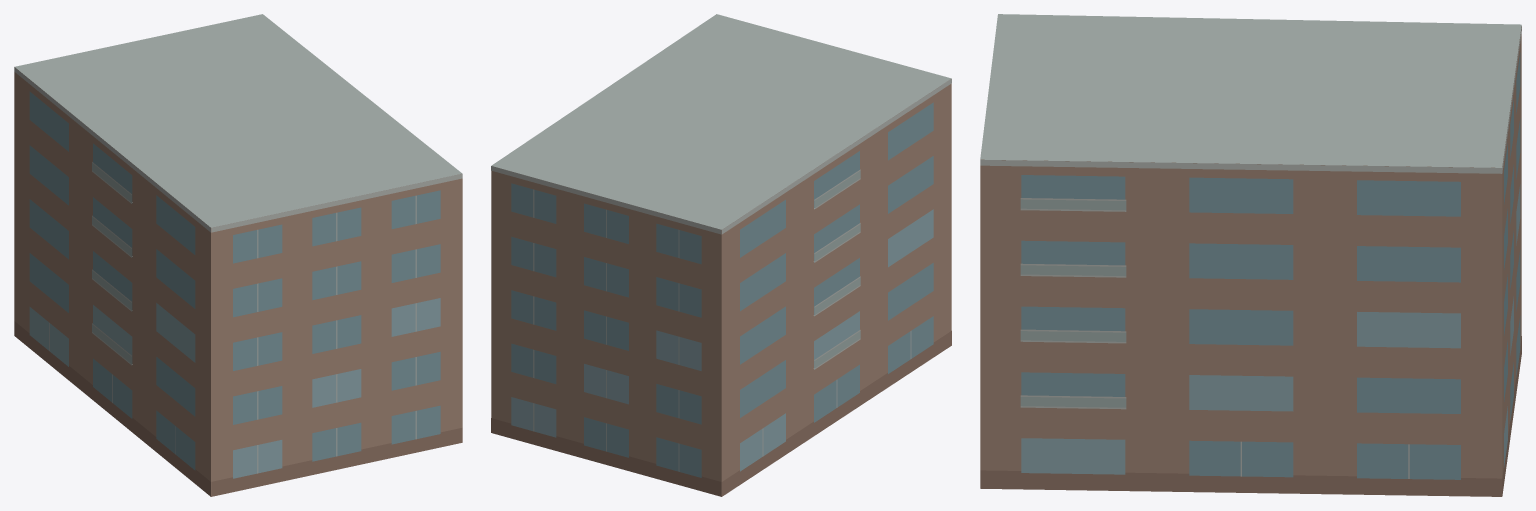
The model's file is survey-upis-32653981.glb.
The picture shows the model from 3 angles, left to right: view 1: azimuth 30°, elevation 25°; view 2: azimuth 150°, elevation 25°; view 3: azimuth 270°, elevation 25°; orthographic projection. The views are drawn at different scales.
Parts seen in each view (by area): view 1: survey-upis-32653981.tmp; view 2: survey-upis-32653981.tmp; view 3: survey-upis-32653981.tmp.
Part boxes in pixels (left/top/right/bottom): survey-upis-32653981.tmp: left=14, top=14, right=462, bottom=496; survey-upis-32653981.tmp: left=491, top=14, right=951, bottom=496; survey-upis-32653981.tmp: left=980, top=14, right=1521, bottom=496.
Bounding box in the file's own units: 13.55 × 13.5 × 20.15.
